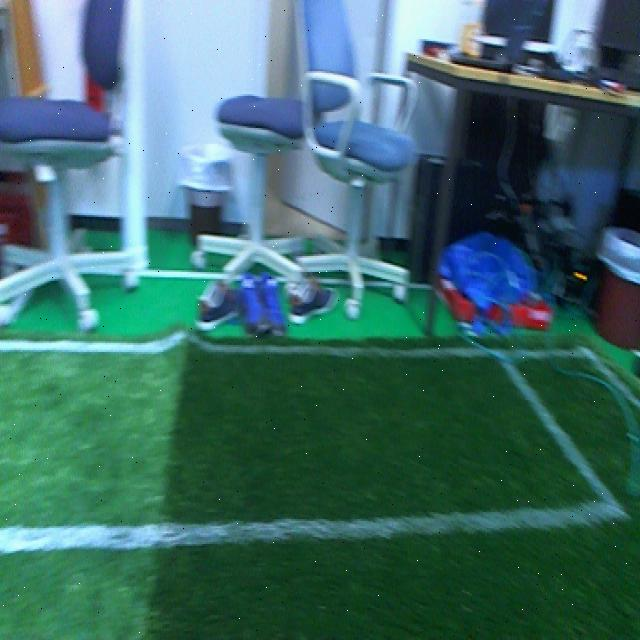goalpost: (121, 2, 149, 268)
